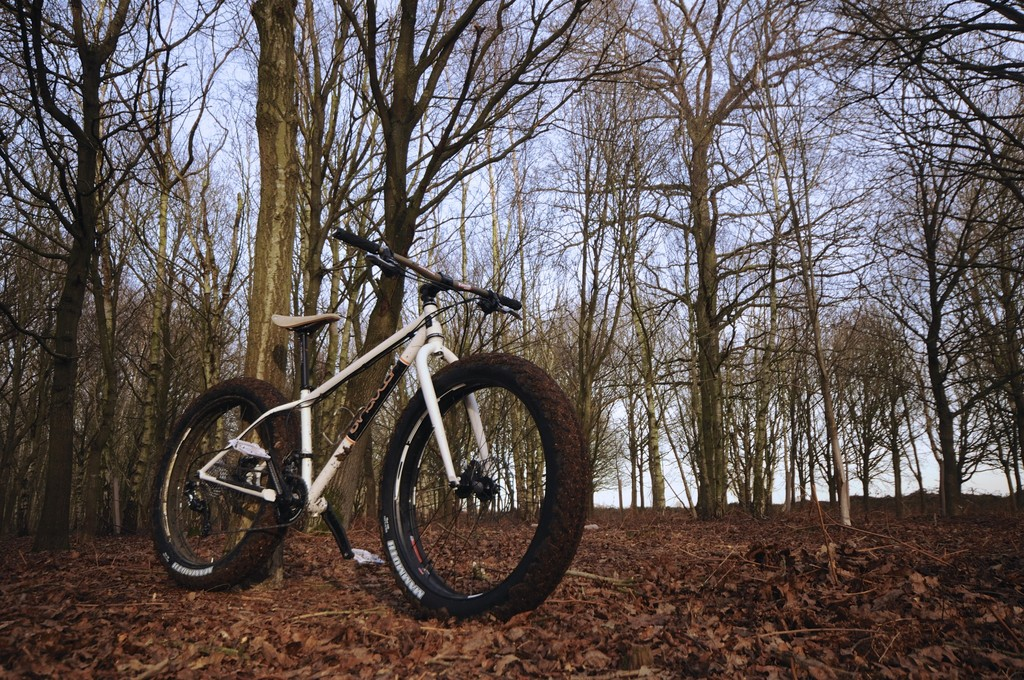Bike: (136, 243, 588, 623)
